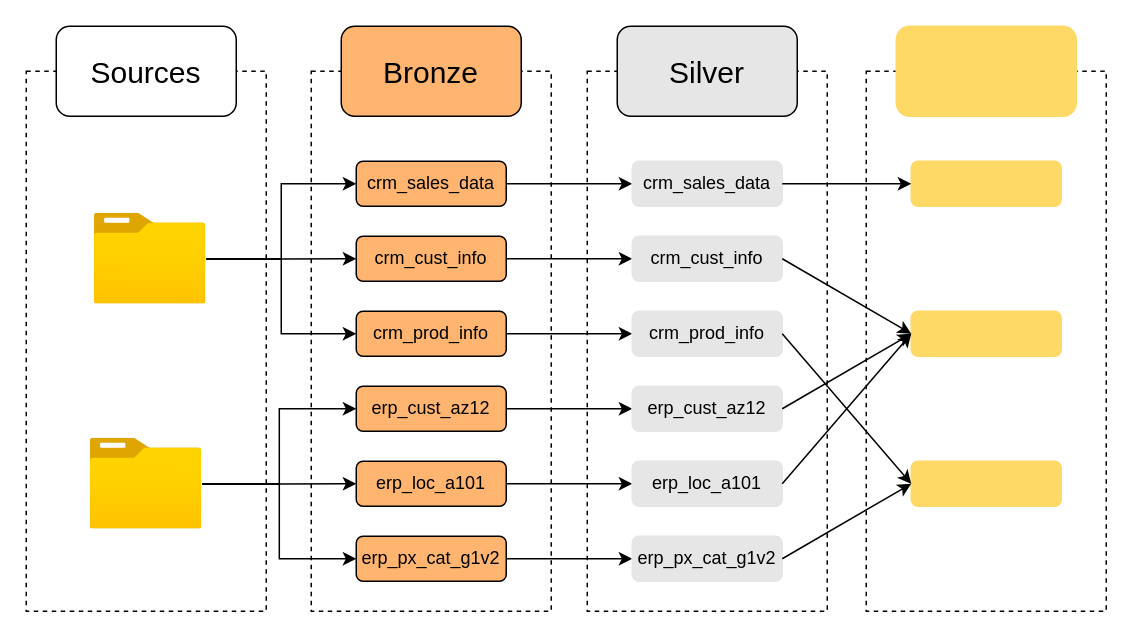
Some shapes in this 1133 by 638 pixel diagram are drawn without their labels. Each missing label, with the centre of its shape:
"CRM" belongs at [150,258].
"dim_customers" belongs at [985,333].
"dim_products" belongs at [985,483].
"ERP" belongs at [145,483].
"fact_sales" belongs at [985,183].
"Gold" belongs at [985,70].
